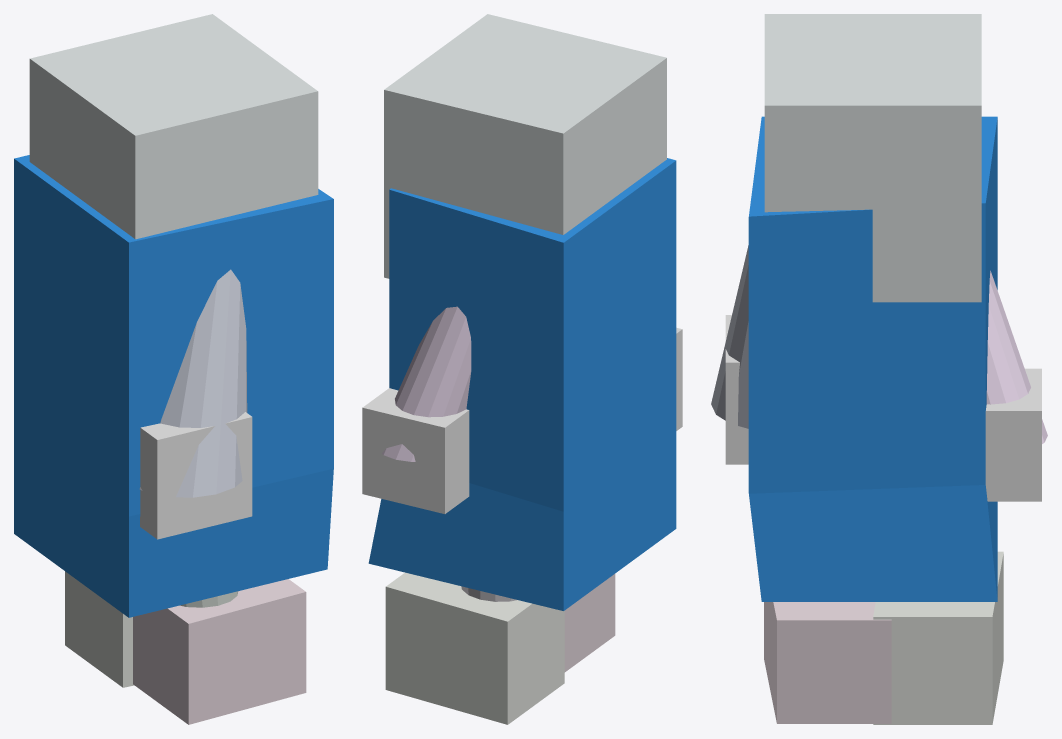
Rendered from DISEÑOs5h.glb.
The picture shows the model from 3 angles, left to right: view 1: azimuth 30°, elevation 25°; view 2: azimuth 150°, elevation 25°; view 3: azimuth 270°, elevation 25°; orthographic projection. The views are drawn at different scales.
Visible parts, largest first — view 1: Cube.001, Cubo, Cubo.002, Cilindro.003, Cubo.003, Cubo.001; view 2: Cube.001, Cubo, Cubo.001, Cubo.004, Cilindro, Cubo.002, Cubo.003; view 3: Cube.001, Cubo, Cubo.002, Cubo.001, Cubo.004, Cilindro, Cilindro.003, Cubo.003.
Part boxes in pixels (bbox=[...]): Cube.001: bbox=[14, 155, 333, 617]; Cubo: bbox=[29, 14, 318, 239]; Cubo.002: bbox=[133, 579, 306, 724]; Cilindro.003: bbox=[139, 269, 247, 497]; Cubo.003: bbox=[140, 412, 252, 539]; Cubo.001: bbox=[65, 571, 134, 687]; Cube.001: bbox=[368, 158, 676, 610]; Cubo: bbox=[384, 14, 666, 278]; Cubo.001: bbox=[385, 572, 564, 724]; Cubo.004: bbox=[362, 388, 469, 513]; Cilindro: bbox=[382, 306, 471, 461]; Cubo.002: bbox=[564, 574, 615, 672]; Cubo.003: bbox=[676, 327, 682, 430]; Cube.001: bbox=[748, 116, 997, 601]; Cubo: bbox=[764, 14, 981, 302]; Cubo.002: bbox=[764, 602, 891, 723]; Cubo.001: bbox=[873, 551, 1003, 724]; Cubo.004: bbox=[985, 368, 1041, 501]; Cilindro: bbox=[986, 270, 1047, 443]; Cilindro.003: bbox=[711, 245, 748, 428]; Cubo.003: bbox=[725, 315, 748, 464].
Size of the model in its own units: 2 by 5.83 by 2.86.
